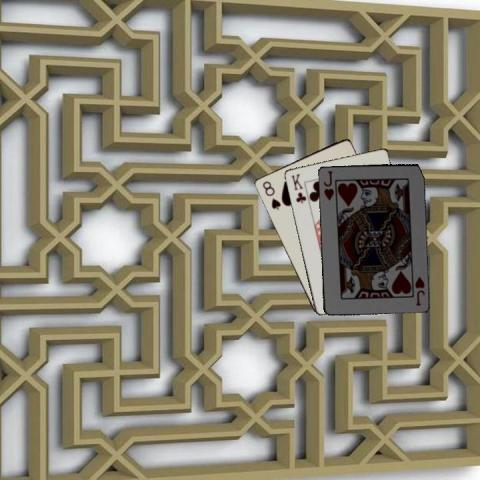8s: (259, 178, 282, 211)
Jh: (410, 271, 426, 307), (321, 167, 335, 202)
Kc: (288, 170, 307, 204)
